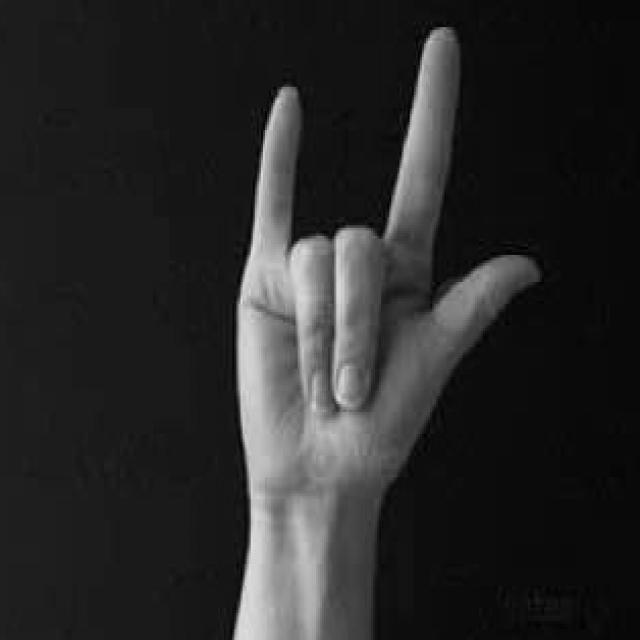i love you: (228, 19, 547, 566)
